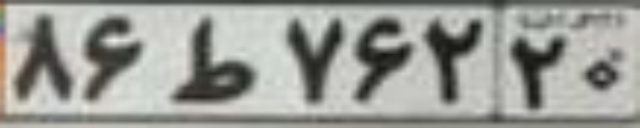0: (578, 59, 624, 90)
2: (423, 15, 475, 104), (510, 33, 566, 108)
6: (352, 13, 414, 101), (80, 15, 143, 100)
7: (283, 15, 342, 104)
8: (15, 12, 72, 102)
taa: (170, 12, 257, 101)
